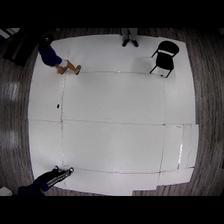normal: (31, 29, 82, 75), (17, 165, 74, 196)
